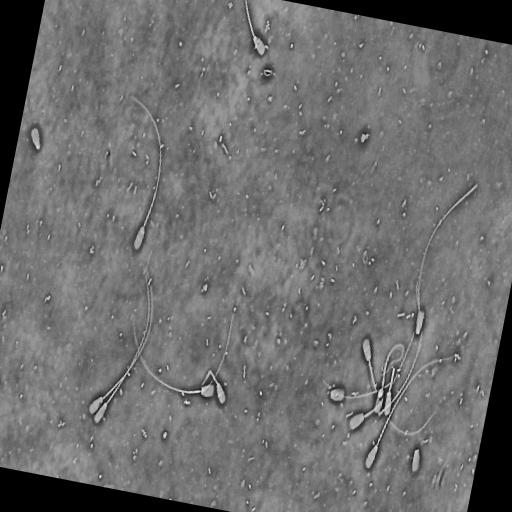coiled-tail: (381, 345, 404, 390)
dirt-particles: (358, 130, 370, 145), (262, 67, 274, 80)
folded-tail: (214, 310, 235, 377), (323, 379, 391, 398), (201, 369, 214, 393), (391, 370, 394, 380), (389, 383, 392, 393), (392, 375, 394, 383)
loose-head: (414, 305, 427, 339), (410, 445, 423, 476), (29, 123, 42, 152), (329, 386, 347, 404)
loose-tail: (417, 178, 480, 311), (377, 279, 424, 419)
normal: (365, 356, 456, 470), (88, 268, 154, 417), (92, 264, 150, 427), (131, 310, 217, 399), (349, 322, 417, 433), (361, 335, 434, 437), (128, 95, 164, 254), (321, 366, 396, 417), (374, 343, 404, 415), (215, 306, 236, 377), (244, 0, 268, 59), (200, 368, 215, 394), (214, 377, 227, 406)
